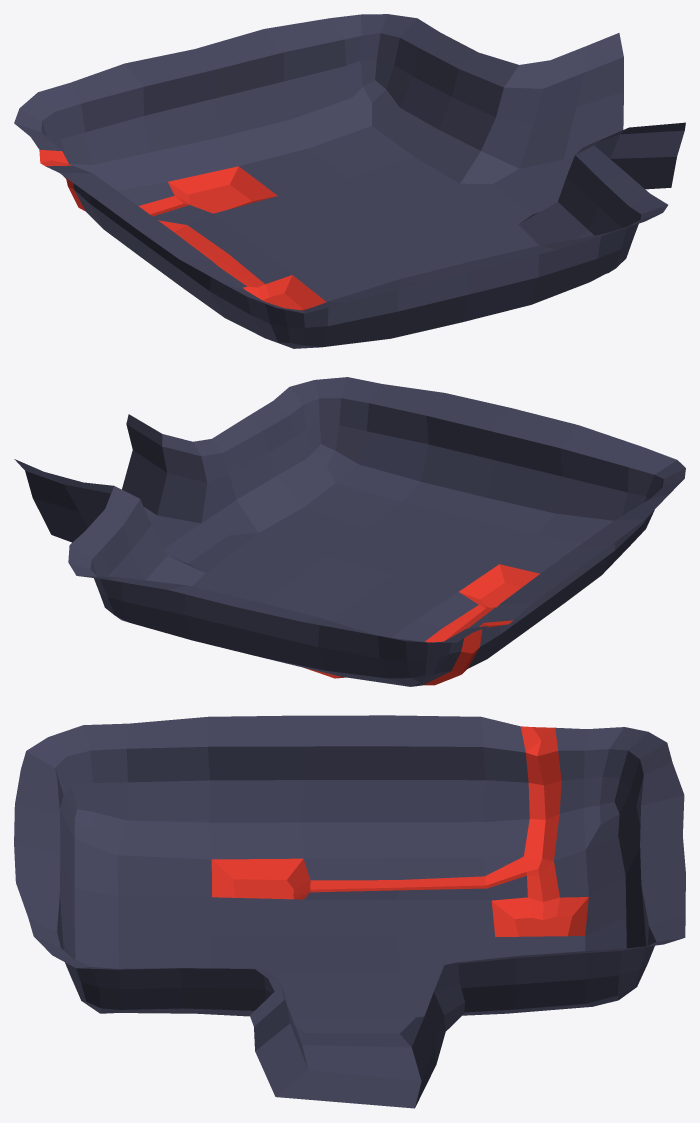
The model's file is FirstRoom.glb.
The picture shows the model from 3 angles, top to bottom: view 1: azimuth 30°, elevation 25°; view 2: azimuth 150°, elevation 25°; view 3: azimuth 270°, elevation 25°; orthographic projection. The views are drawn at different scales.
Parts seen in each view (by area): view 1: Plane; view 2: Plane; view 3: Plane.
Part boxes in pixels (box(x1,y1,x2,y2)): Plane: box(14, 14, 685, 348); Plane: box(14, 377, 685, 686); Plane: box(14, 715, 685, 1108).
Size of the model in its own units: 116 by 21.74 by 107.
